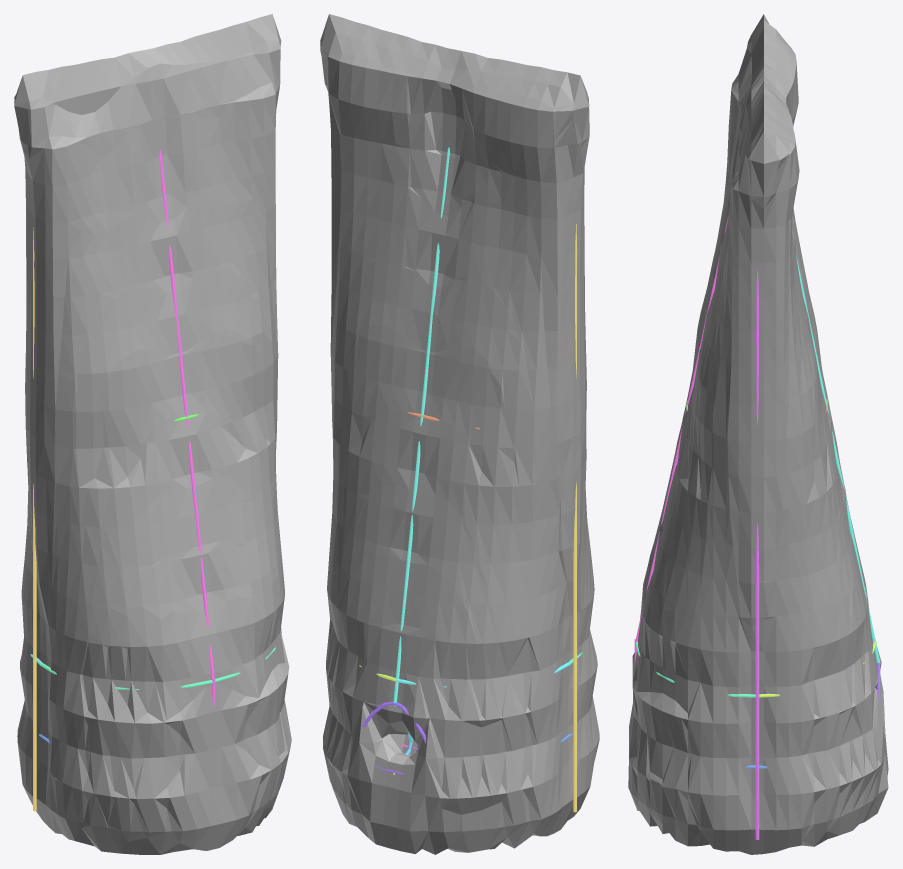
The model's file is t2f_toothpaste.gltf.
3 views of the same model, side by side, from view 1: azimuth 30°, elevation 25°; view 2: azimuth 150°, elevation 25°; view 3: azimuth 270°, elevation 25° (orthographic). The views are drawn at different scales.
Bounding box in the file's own units: 0.3517 × 0.9563 × 0.3065.
